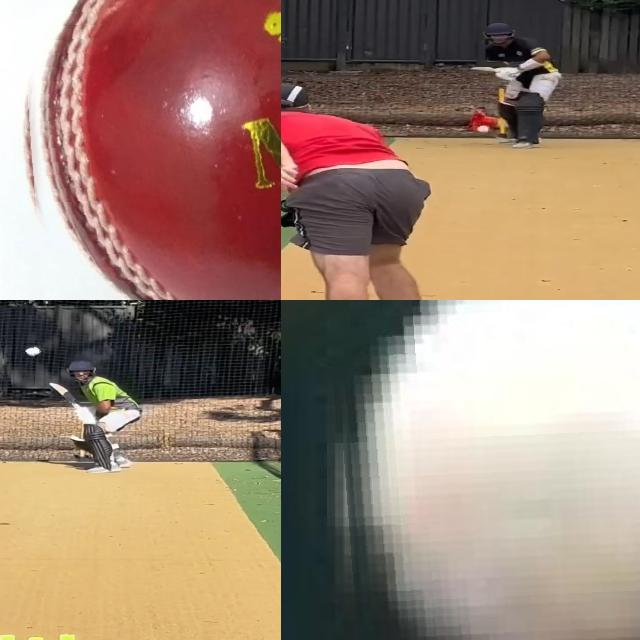Cricket ball: (328, 300, 640, 640), (13, 0, 281, 300), (22, 345, 43, 358), (476, 125, 492, 135)
